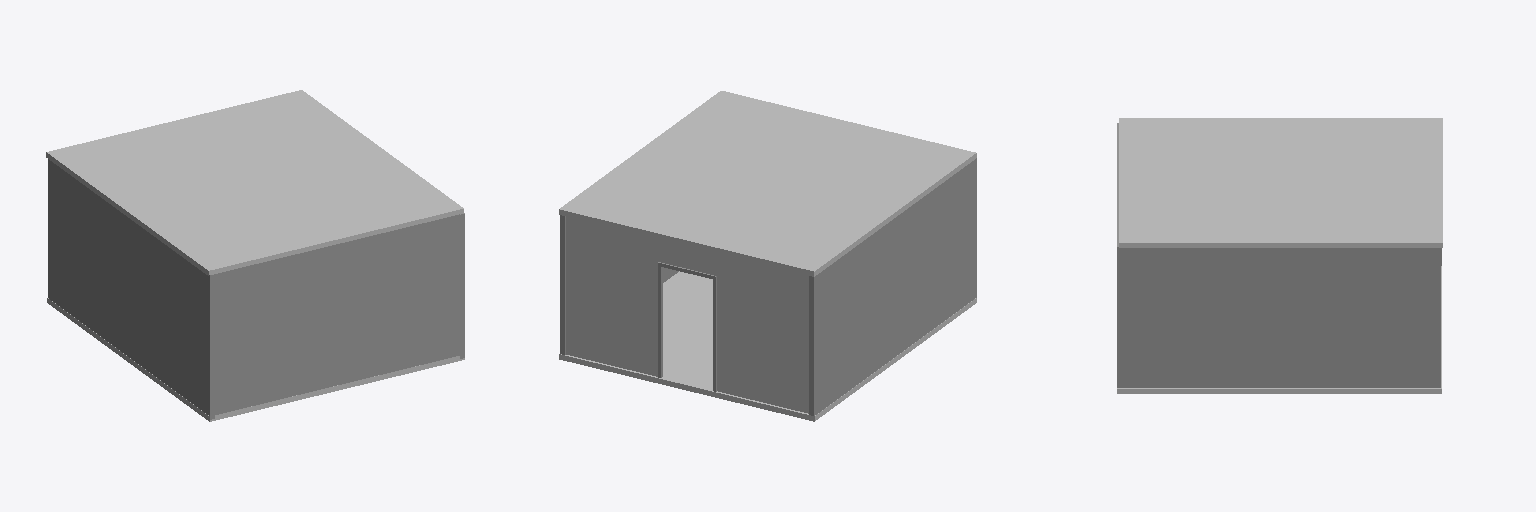
File: lvl1.obj
3 views of the same model, side by side, from view 1: azimuth 30°, elevation 25°; view 2: azimuth 150°, elevation 25°; view 3: azimuth 270°, elevation 25° (orthographic).
Parts seen in each view (by area): view 1: Cube.004, Cube.003, Cube.001, Cube, Cube.002; view 2: Cube.004, Cube.001, Cube.006, Cube.005, Cube, Cube.007, Cube.002, mesh5; view 3: Cube.002, Cube.004, Cube.
Part boxes in pixels (bbox=[...]): Cube.004: bbox=[46, 90, 463, 275]; Cube.003: bbox=[215, 214, 459, 414]; Cube.001: bbox=[48, 159, 214, 419]; Cube: bbox=[47, 298, 464, 421]; Cube.002: bbox=[460, 213, 464, 358]; Cube.004: bbox=[559, 91, 976, 276]; Cube.001: bbox=[809, 158, 976, 415]; Cube.006: bbox=[716, 253, 808, 413]; Cube.005: bbox=[566, 217, 659, 376]; Cube: bbox=[559, 271, 976, 421]; Cube.007: bbox=[657, 239, 717, 275]; Cube.002: bbox=[560, 215, 678, 354]; mesh5: bbox=[658, 263, 715, 391]; Cube.002: bbox=[1117, 244, 1440, 387]; Cube.004: bbox=[1119, 118, 1442, 247]; Cube: bbox=[1117, 266, 1441, 393].
Size of the model in its own units: 5.01 by 2.82 by 5.53.